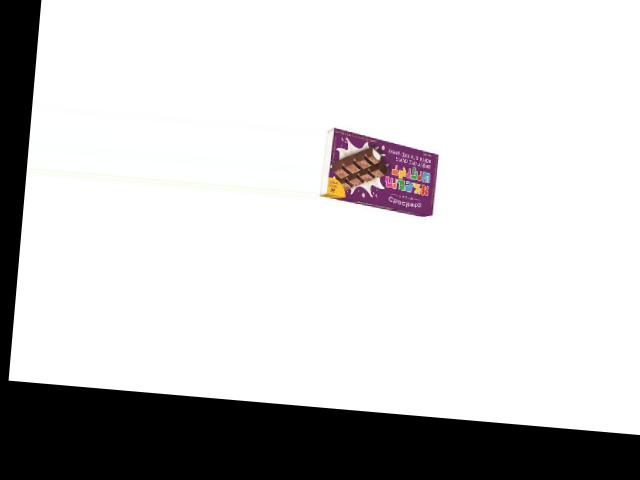chocolate: (317, 132, 447, 218)
